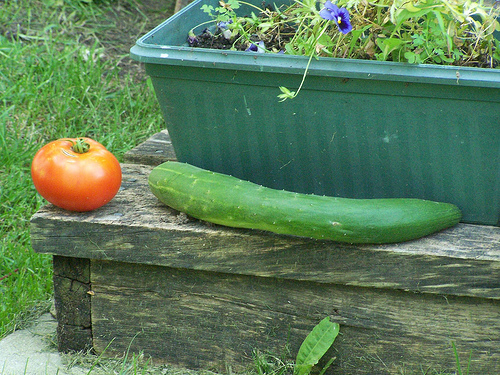cucumber: (146, 156, 461, 242)
